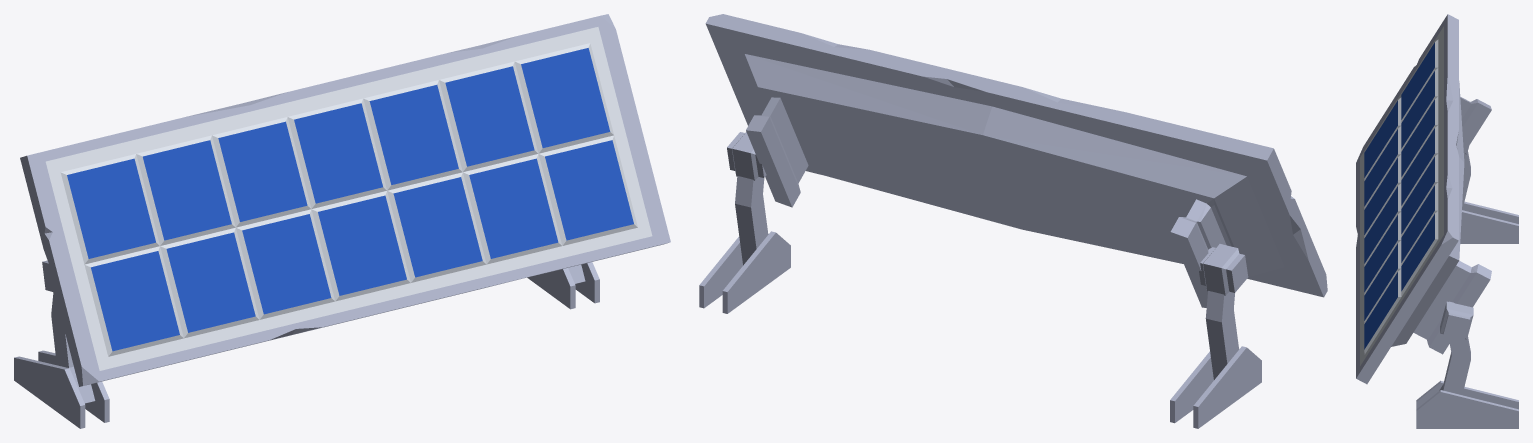
The model's file is SolarPanel.FBX.
3 renders of one model, left to right at view 1: azimuth 30°, elevation 25°; view 2: azimuth 150°, elevation 25°; view 3: azimuth 270°, elevation 25°, orthographic. The views are drawn at different scales.
Visible parts, largest first — view 1: SolarPanel, Solar; view 2: SolarPanel, Solar; view 3: SolarPanel, Solar.
Part boxes in pixels (x1,y1,x2,y2): SolarPanel: (20, 14, 670, 386); Solar: (14, 260, 599, 428); SolarPanel: (705, 14, 1327, 307); Solar: (699, 132, 1261, 428); SolarPanel: (1356, 14, 1491, 384); Solar: (1416, 146, 1518, 428).
Bounding box in the file's own units: 22.41 × 9.76 × 6.98.
